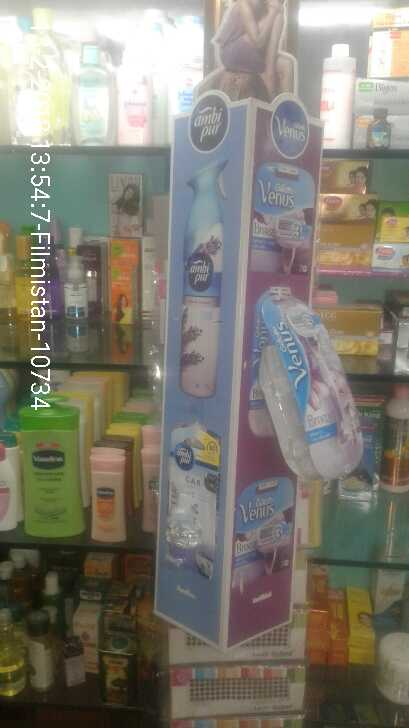home: (167, 422, 224, 576)
venus: (255, 295, 372, 485)
